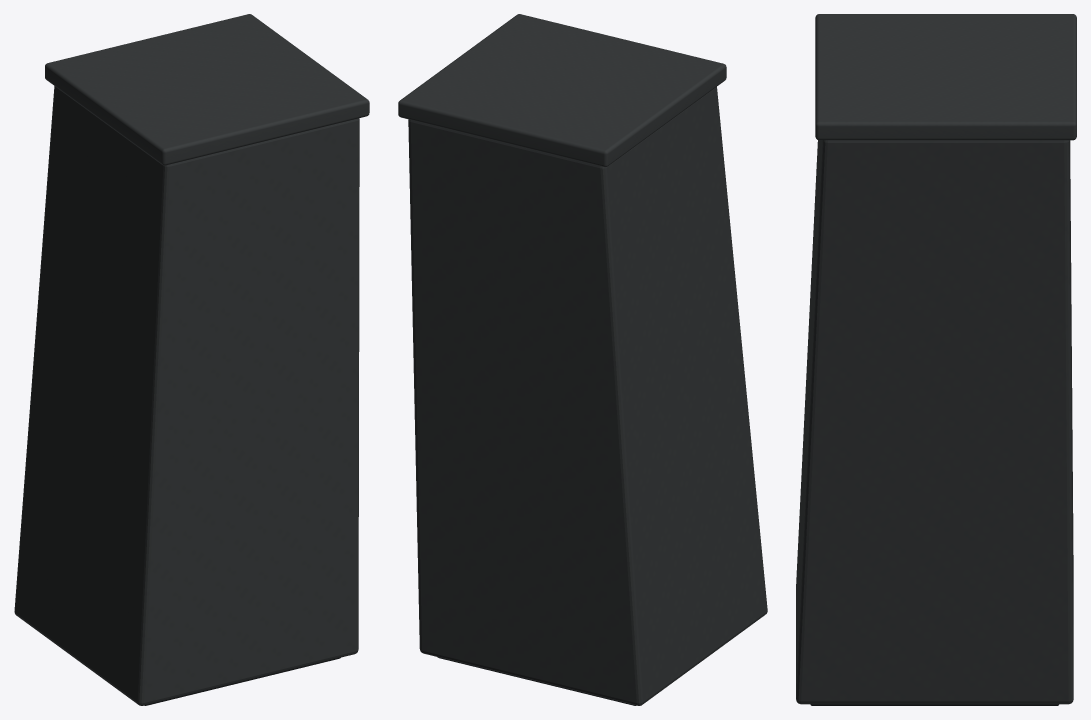
File: display-pedestal.glb
3 renders of one model, left to right at view 1: azimuth 30°, elevation 25°; view 2: azimuth 150°, elevation 25°; view 3: azimuth 270°, elevation 25°, orthographic. The views are drawn at different scales.
Parts seen in each view (by area): view 1: Canted solid gallery pedestal, Display cap; view 2: Canted solid gallery pedestal, Display cap; view 3: Canted solid gallery pedestal, Display cap, Recessed bottom plinth.
Boxes of the visible parts, x1,y1,x2,y2 form: Canted solid gallery pedestal: (14,86,359,705); Display cap: (45,14,369,165); Canted solid gallery pedestal: (408,87,767,705); Display cap: (398,14,726,167); Canted solid gallery pedestal: (796,140,1073,704); Display cap: (815,14,1076,140); Recessed bottom plinth: (810,704,1058,705).
Bounding box in the file's own units: 0.4784 × 1.05 × 0.4447.
2 materials, 2 textured.
